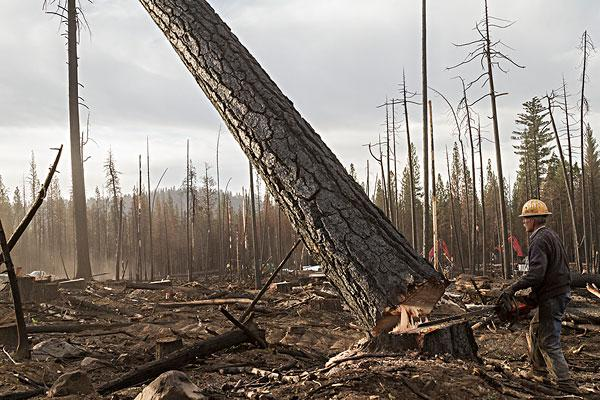helmet: (517, 194, 555, 236)
